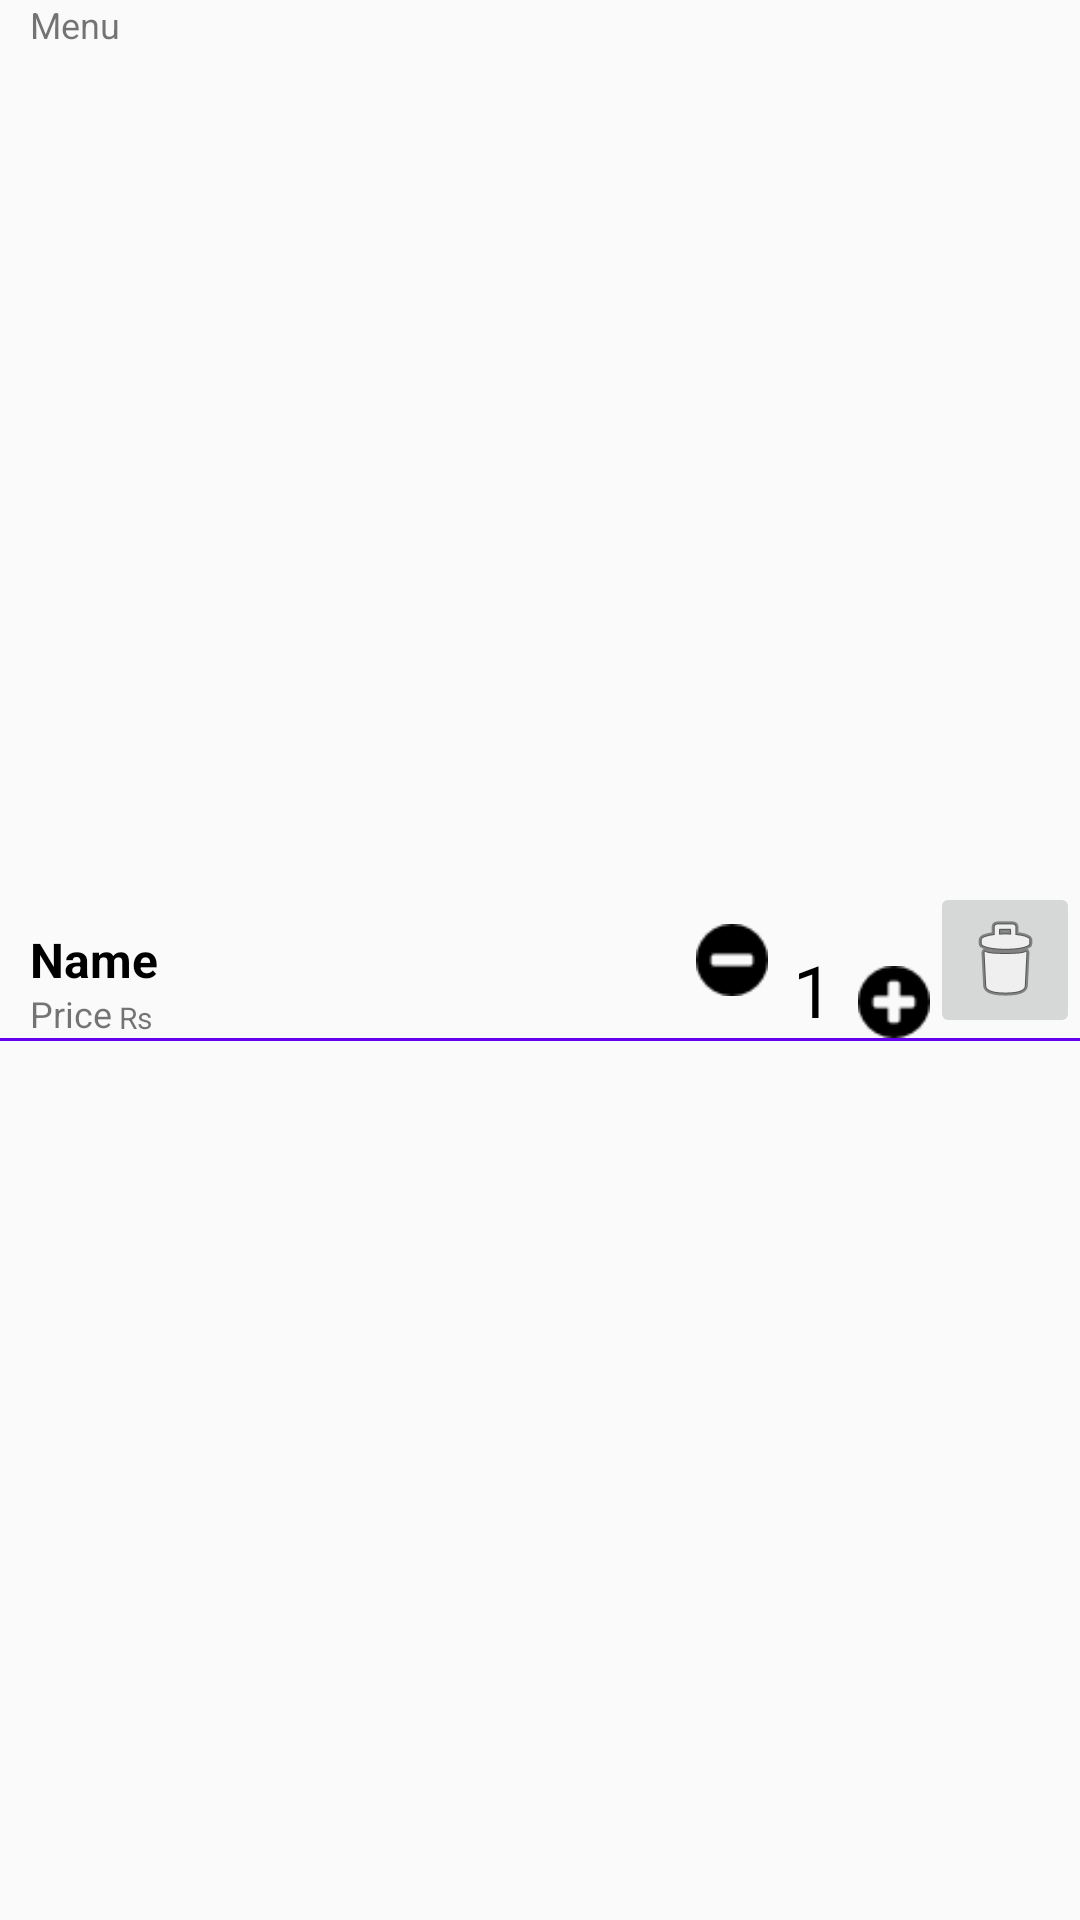

Named icons in this screenshot (1080 × 1920) and their bounding boxes, (x1, y1, x2, y2):
delete: (942, 900, 1068, 1020)
minus: (696, 924, 768, 996)
plus: (858, 966, 930, 1038)
